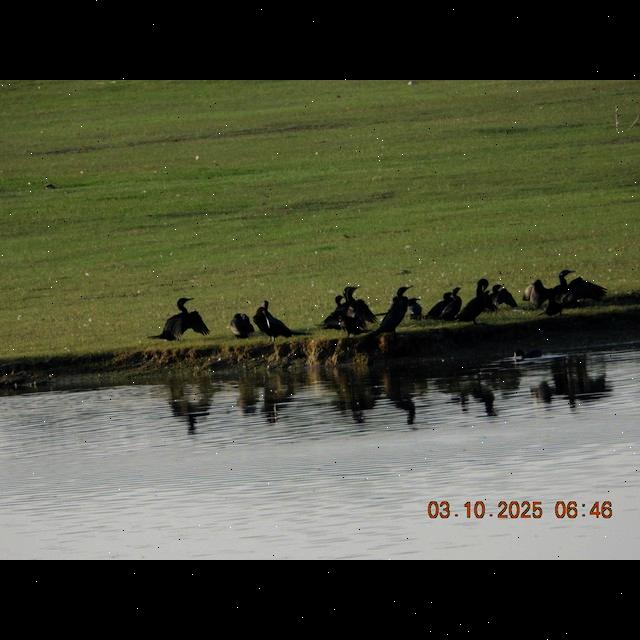cormorant: (146, 294, 208, 342)
